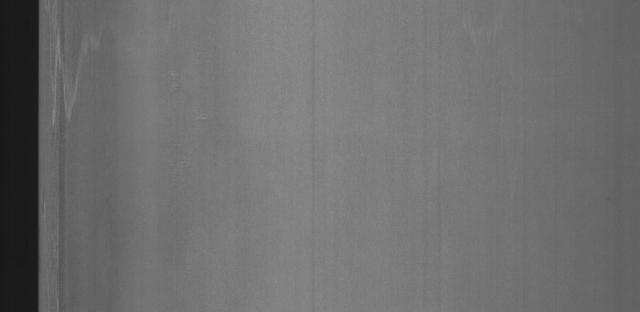silk_spot: (44, 25, 112, 147)
